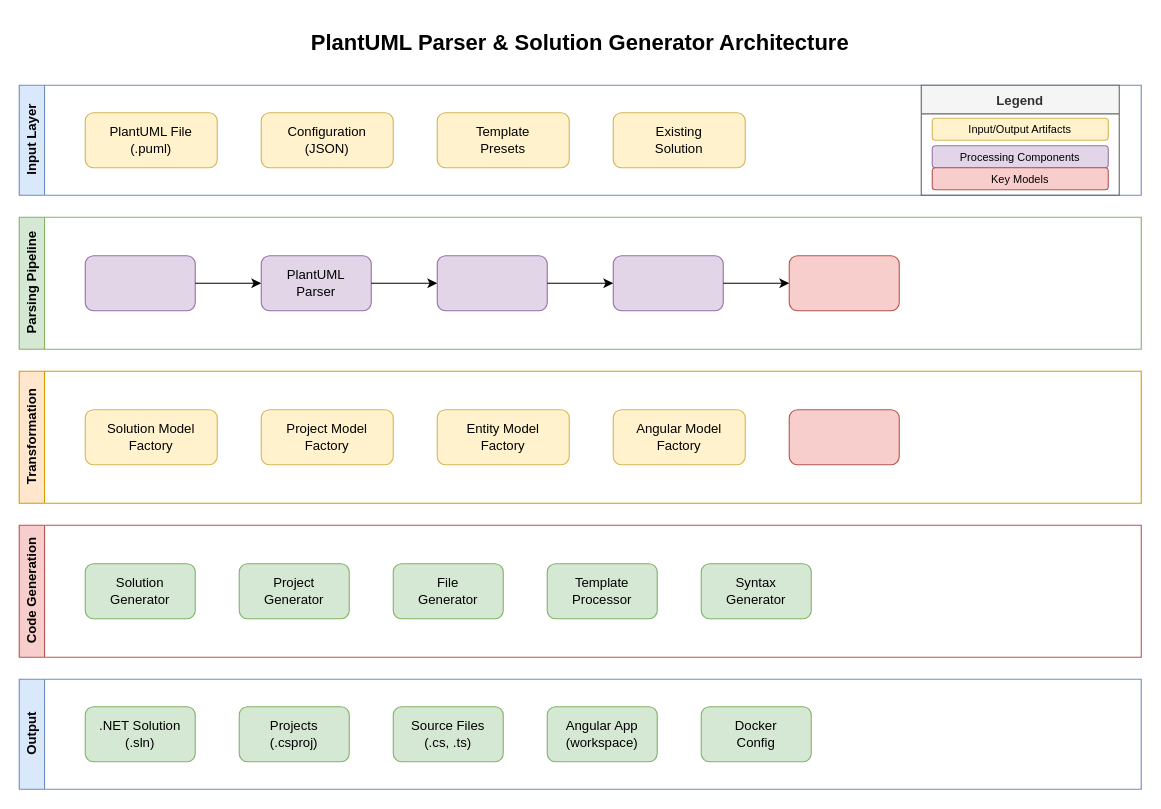
This 1161x809 diagram has some shape labels left out. Here are the shapes that lost their labels. From the top down, the centre of each, then its label:
At point 139,283: "PlantUML Lexer".
At point 491,283: "Syntax Validator".
At point 667,283: "Type Resolver".
At point 843,283: "Semantic Model".
At point 843,437: "Generation Plan".
